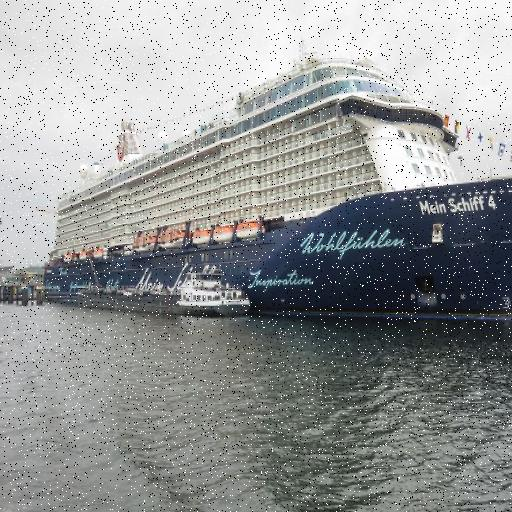cruises: (36, 33, 512, 335)
